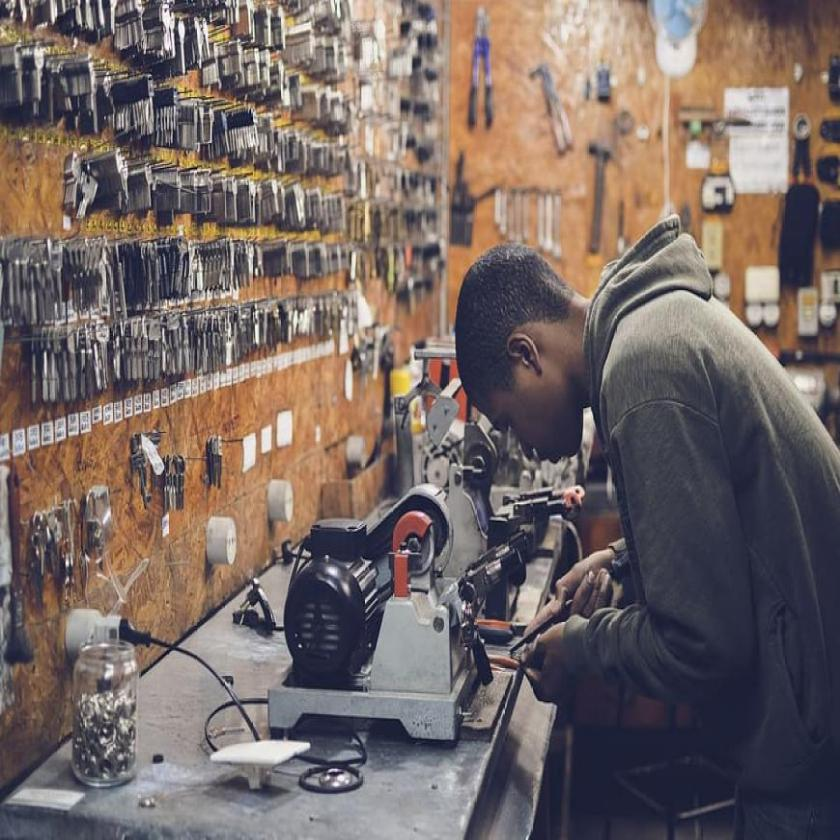Sin_casco: (444, 236, 597, 480)
